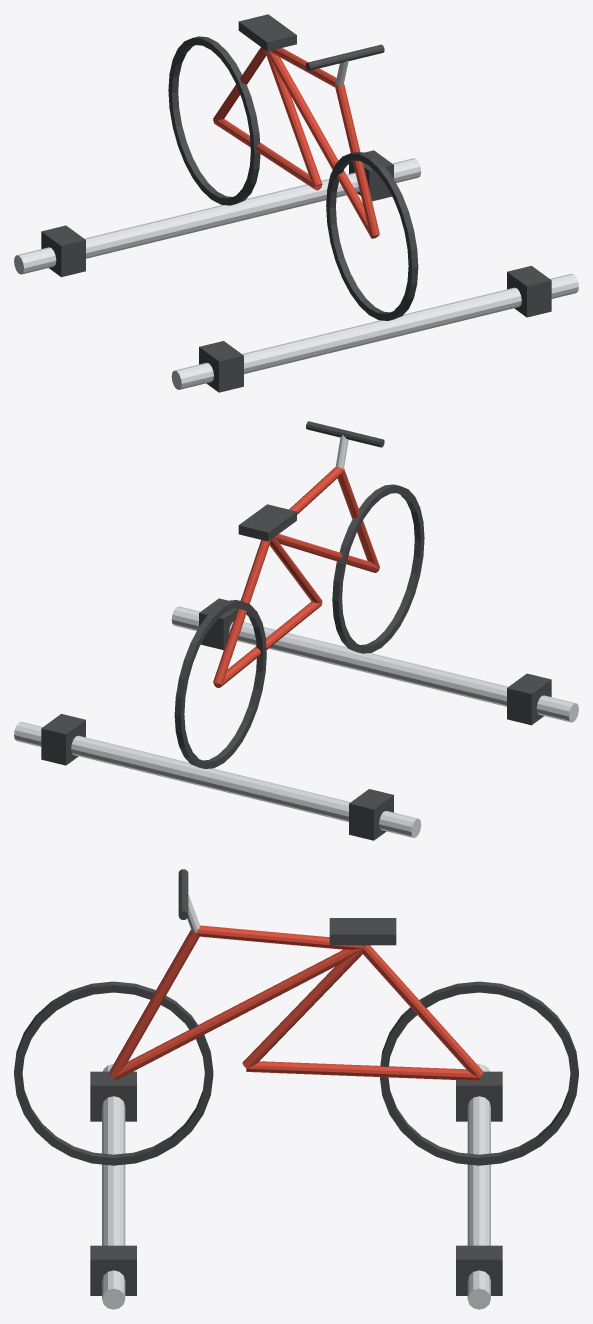
File: road-car-showroom-lineup-roof-bars-with-bike-1002ecb0__15125.glb
3 renders of one model, top to bottom at view 1: azimuth 30°, elevation 25°; view 2: azimuth 150°, elevation 25°; view 3: azimuth 270°, elevation 25°, orthographic. The views are drawn at different scales.
Visible parts, largest first — view 1: roof-bars-with-bike; view 2: roof-bars-with-bike; view 3: roof-bars-with-bike.
Part boxes in pixels (x1,y1,x2,y2): roof-bars-with-bike: (14, 14, 578, 392); roof-bars-with-bike: (14, 421, 578, 840); roof-bars-with-bike: (14, 869, 578, 1309).
Size of the model in its own units: 1.6 by 1.03 by 1.7.
